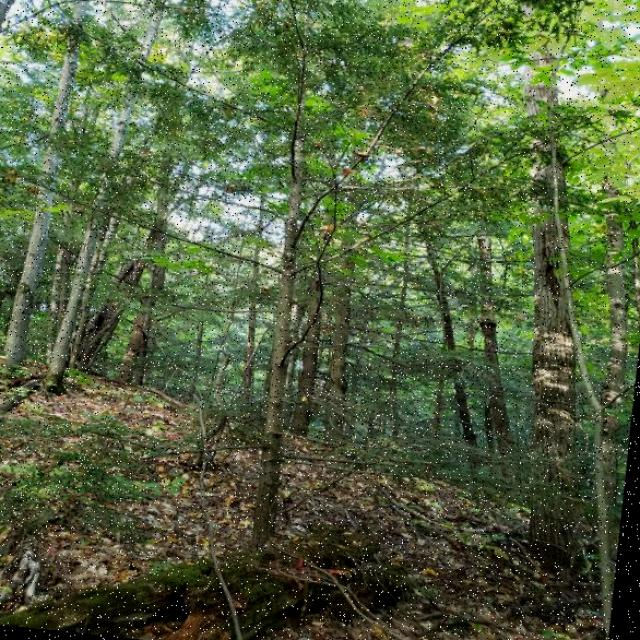fallen_object: (0, 457, 440, 640)
